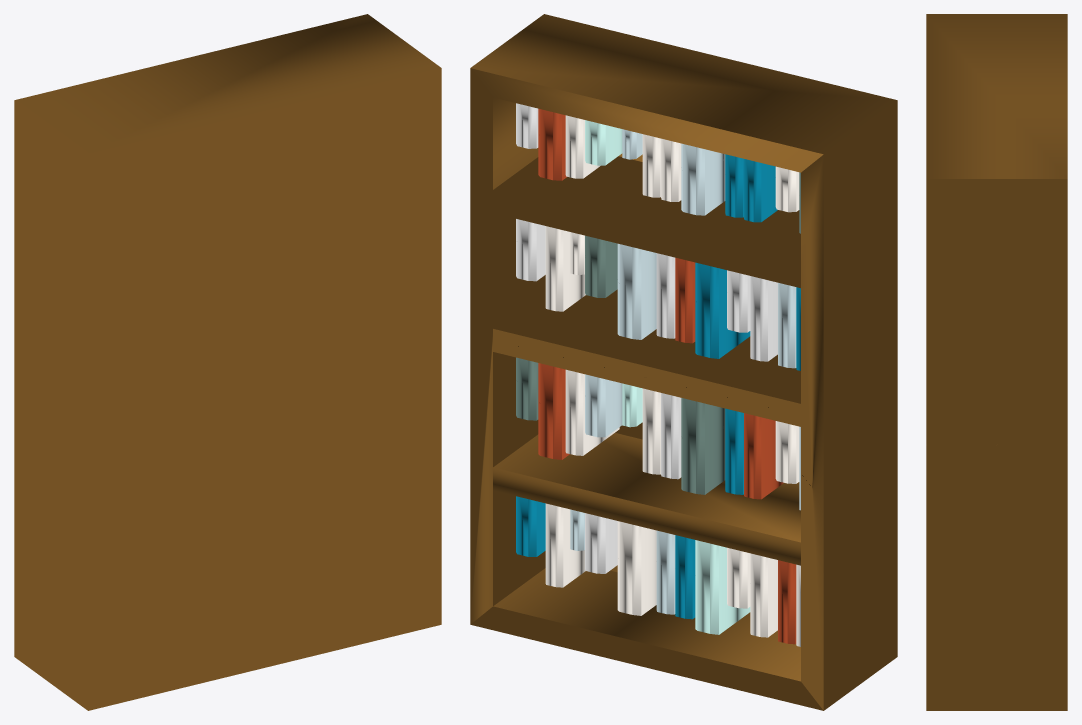
File: bookshelf_v02.fbx
The picture shows the model from 3 angles, left to right: view 1: azimuth 30°, elevation 25°; view 2: azimuth 150°, elevation 25°; view 3: azimuth 270°, elevation 25°; orthographic projection. The views are drawn at different scales.
Parts seen in each view (by area): view 1: bookshelf; view 2: bookshelf, Cube_9, Cube_32, Cube_20, Cube_33, Cube_21, Cube_45, Cube_5, Cube_8, Cube_31, Cube_19, Cube_25 (+30 smaller); view 3: bookshelf.
Part boxes in pixels (box(x1,y1,x2,y2)): bookshelf: box(14, 14, 441, 710); bookshelf: box(470, 14, 897, 710); Cube_9: box(681, 398, 725, 494); Cube_32: box(617, 243, 656, 339); Cube_20: box(617, 521, 656, 615); Cube_33: box(695, 262, 750, 358); Cube_21: box(695, 540, 750, 634); Cube_45: box(681, 143, 725, 215); Cube_5: box(744, 413, 783, 499); Cube_8: box(538, 363, 569, 459); Cube_31: box(545, 226, 585, 311); Cube_19: box(545, 503, 585, 587); Cube_25: box(750, 276, 777, 361); bookshelf: box(926, 14, 1067, 710).
Size of the model in its own units: 128 by 193 by 46.37.
